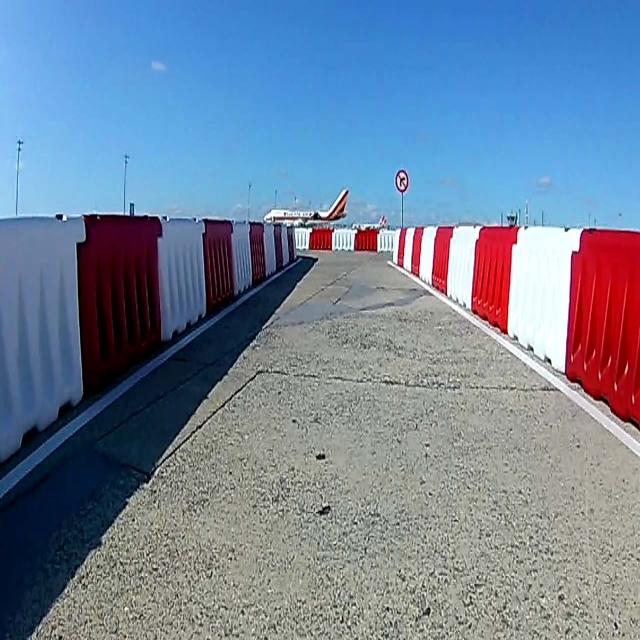sagadonulmez: (395, 169, 409, 194)
